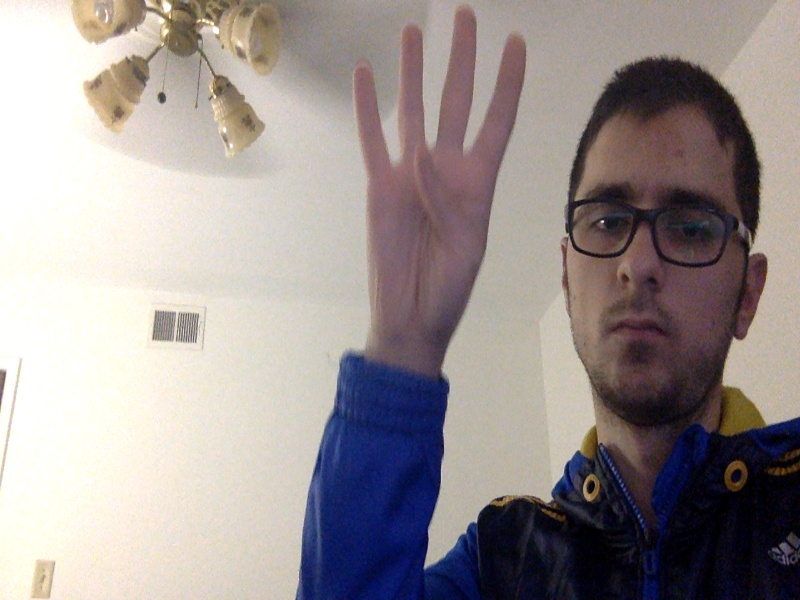4-hand: (348, 6, 526, 337)
